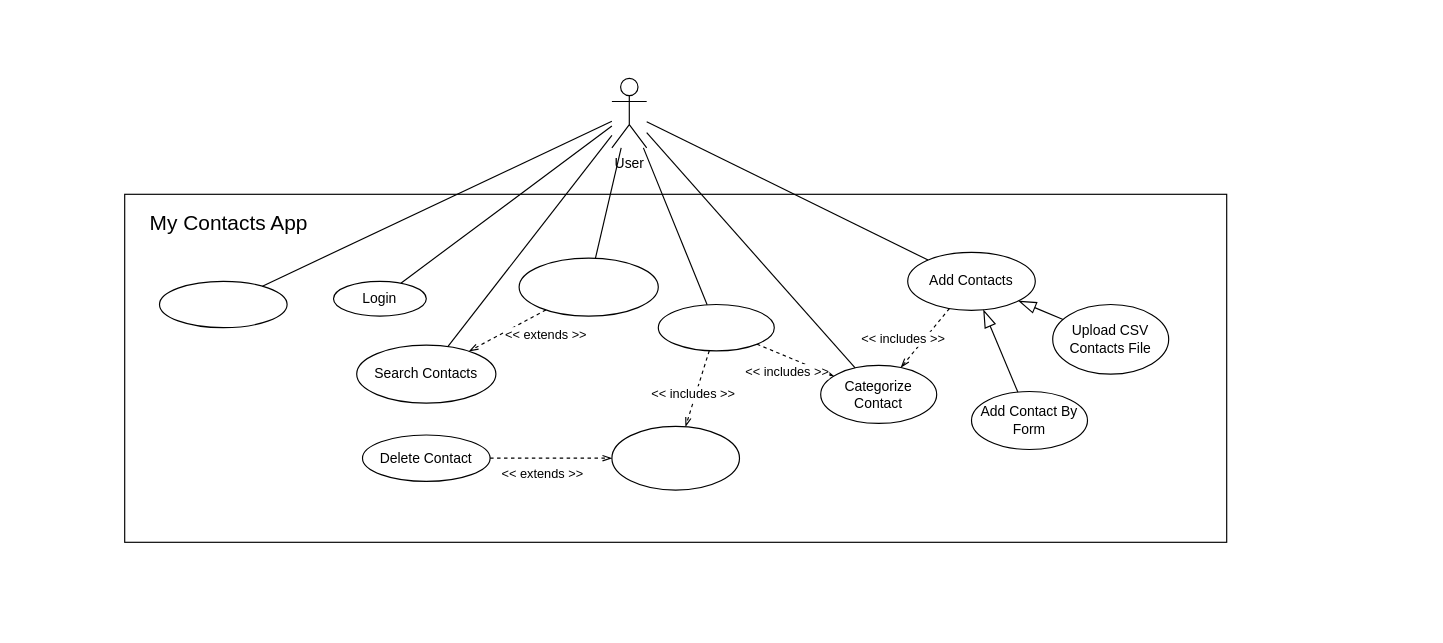
Image size: 1443x643. Some labels were removed from this diagram. Here are the shapes that lost their labels. From the top down, the centre of each, then its label:
At [222,304]: "Create Account".
At [588,286]: "View Contact List".
At [715,327]: "Edit Contact".
At [675,457]: "View Detailed Contact Info".
